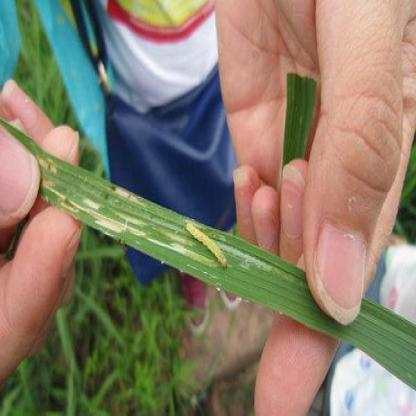leaf-folder: (181, 203, 240, 292)
